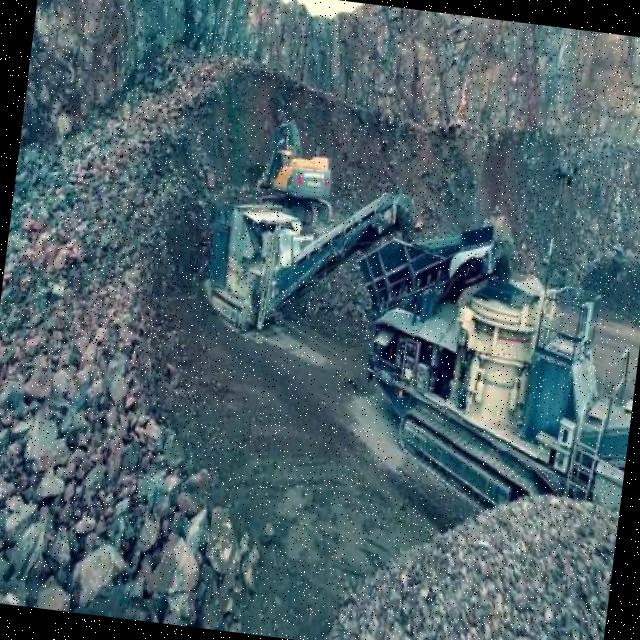Excavator: (252, 113, 342, 227)
